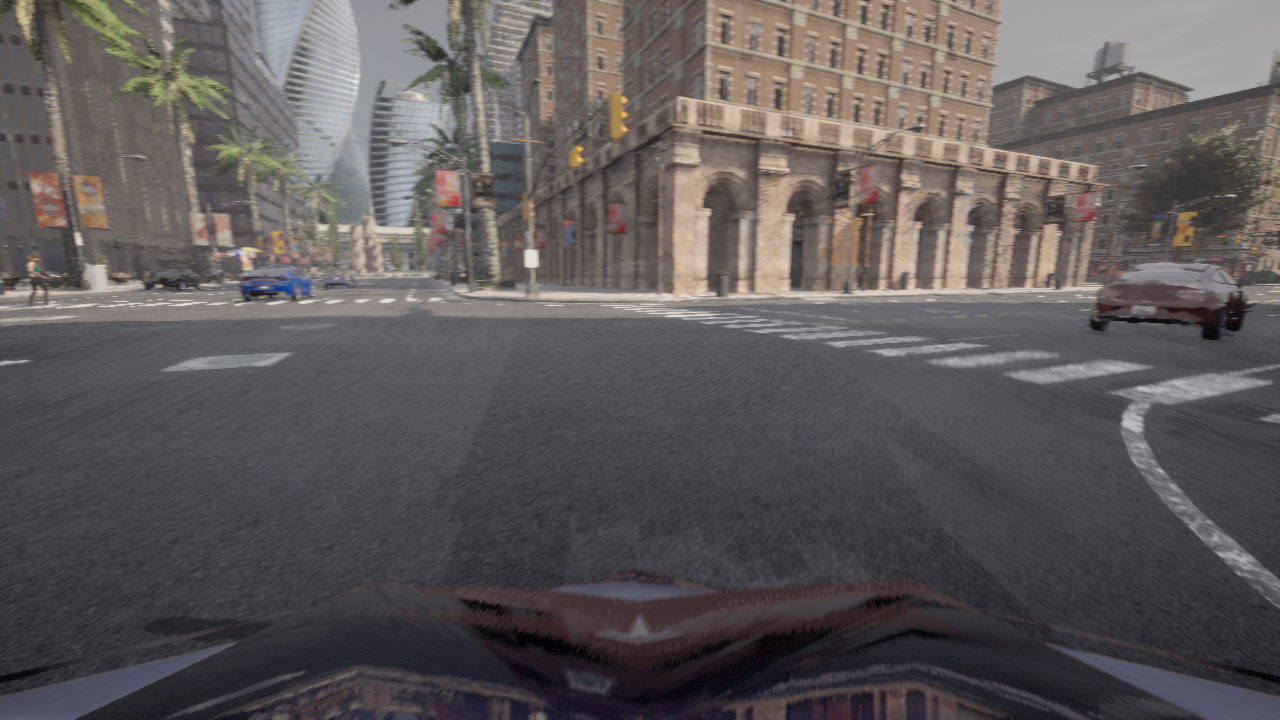cyclist: (0, 569, 1279, 719), (1081, 263, 1257, 339), (240, 266, 316, 301), (143, 269, 201, 290), (324, 268, 355, 289), (309, 271, 323, 280)
pedestrian: (28, 254, 55, 306)
